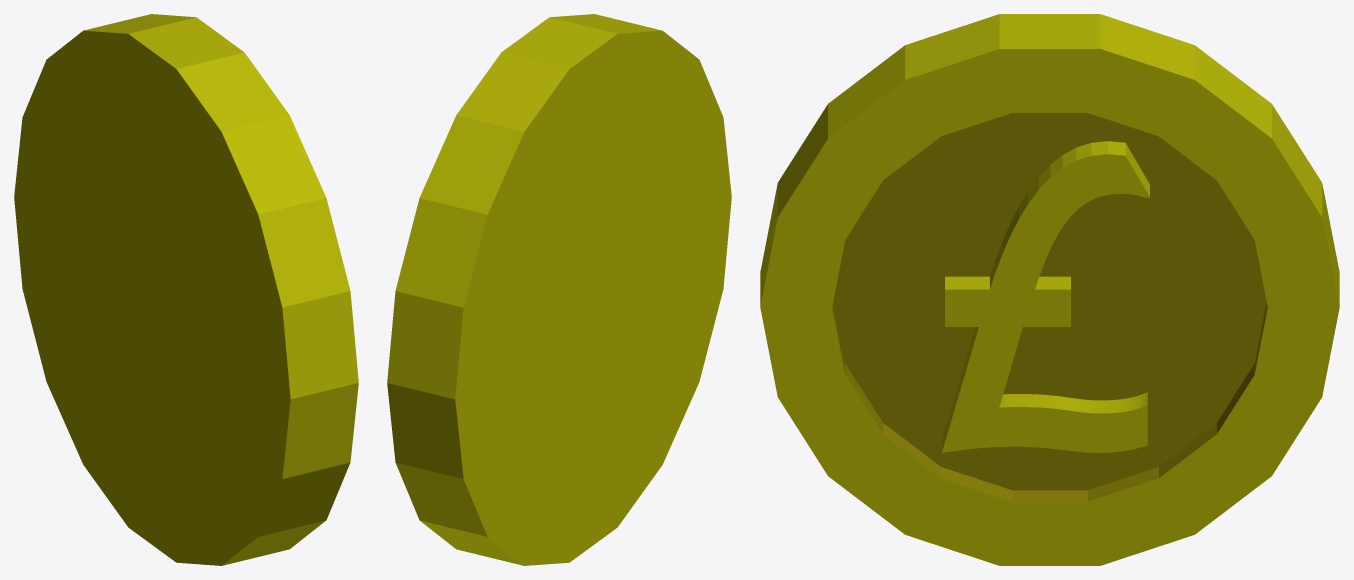
The model's file is money.fbx.
The picture shows the model from 3 angles, left to right: view 1: azimuth 30°, elevation 25°; view 2: azimuth 150°, elevation 25°; view 3: azimuth 270°, elevation 25°; orthographic projection. The views are drawn at different scales.
Visible parts, largest first — view 1: Cylinder; view 2: Cylinder; view 3: Cylinder.
Part boxes in pixels (x1=…): Cylinder: x1=14, y1=14, x2=358, y2=565; Cylinder: x1=387, y1=14, x2=731, y2=565; Cylinder: x1=760, y1=14, x2=1339, y2=565.
Size of the model in its own units: 78.77 by 522 by 530.
